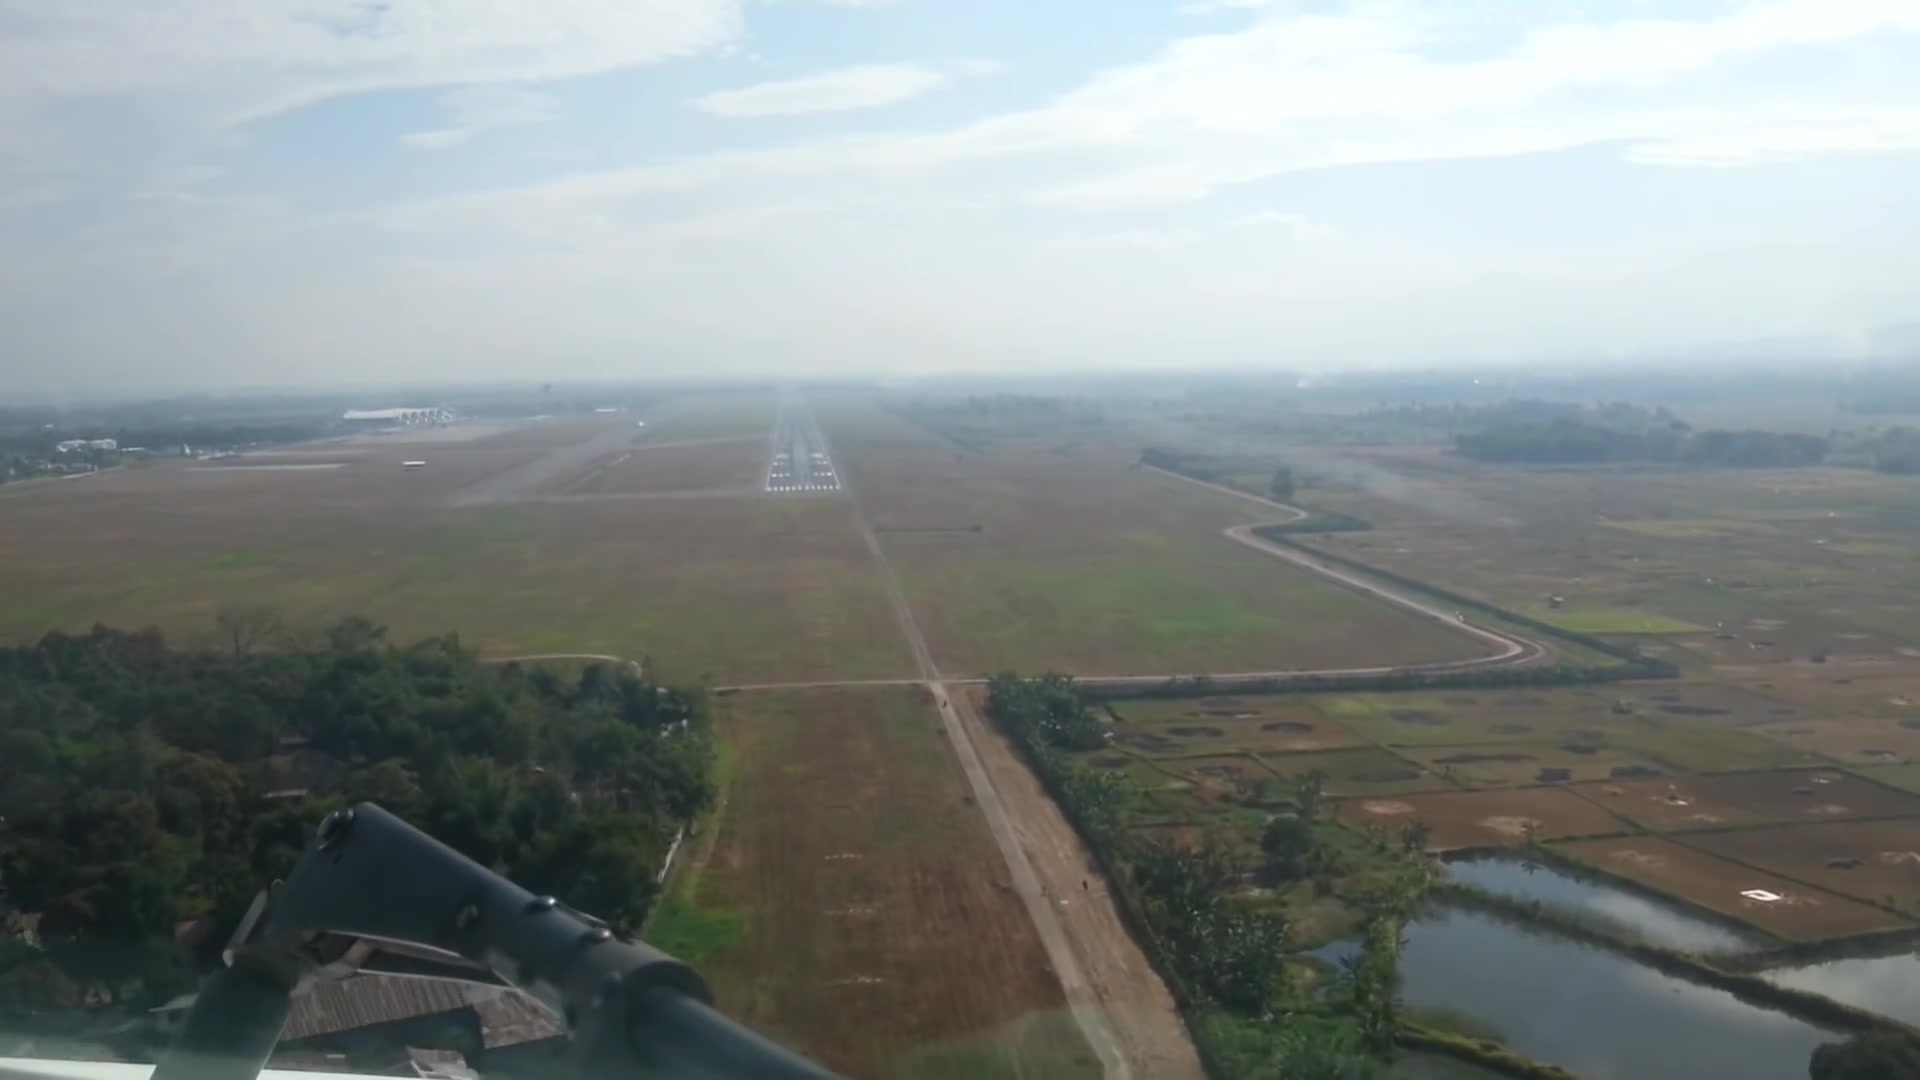entrance: (767, 483, 843, 492)
runway: (764, 386, 843, 495)
